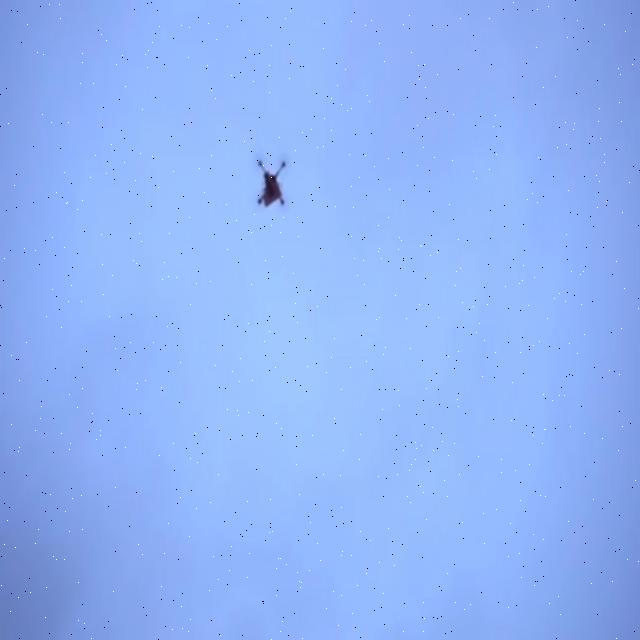UAV: (258, 161, 286, 206)
